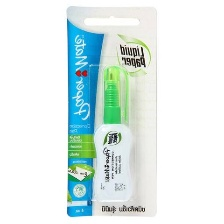book: (63, 4, 160, 219)
correction_fluid: (91, 64, 137, 203)
